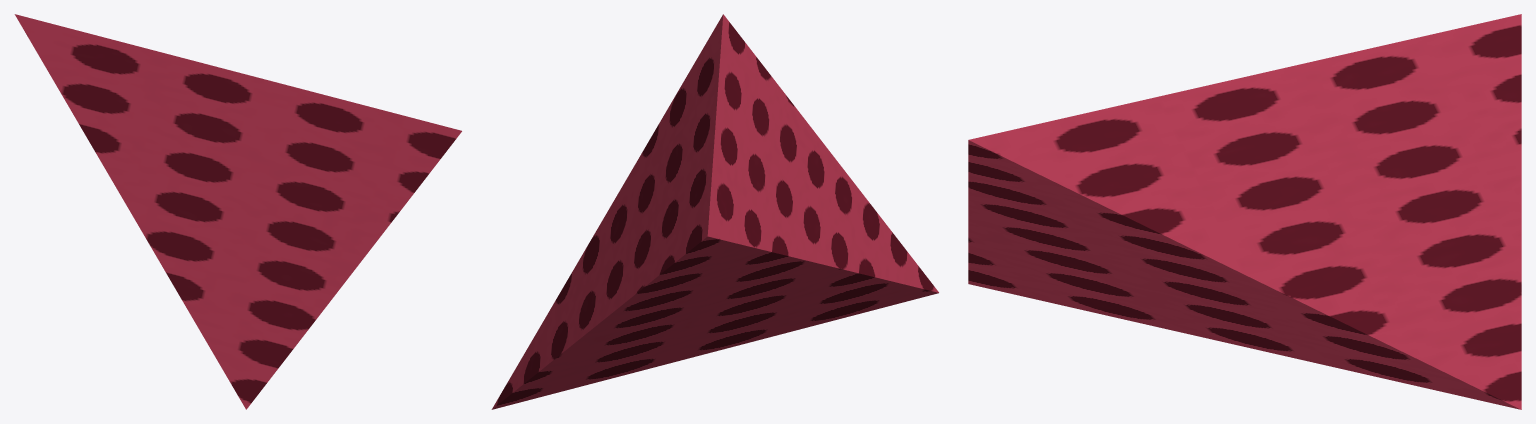
3 views of the same model, side by side, from view 1: azimuth 30°, elevation 25°; view 2: azimuth 150°, elevation 25°; view 3: azimuth 270°, elevation 25° (orthographic). The views are drawn at different scales.
Visible parts, largest first — view 1: geometry_0; view 2: geometry_0; view 3: geometry_0.
Part boxes in pixels (bbox=[...]): geometry_0: bbox=[14, 14, 461, 409]; geometry_0: bbox=[491, 14, 938, 409]; geometry_0: bbox=[968, 14, 1521, 409].
Bounding box in the file's own units: 0.4505 × 0.4505 × 0.8366.
Materials: 1 (1 with a texture image).
